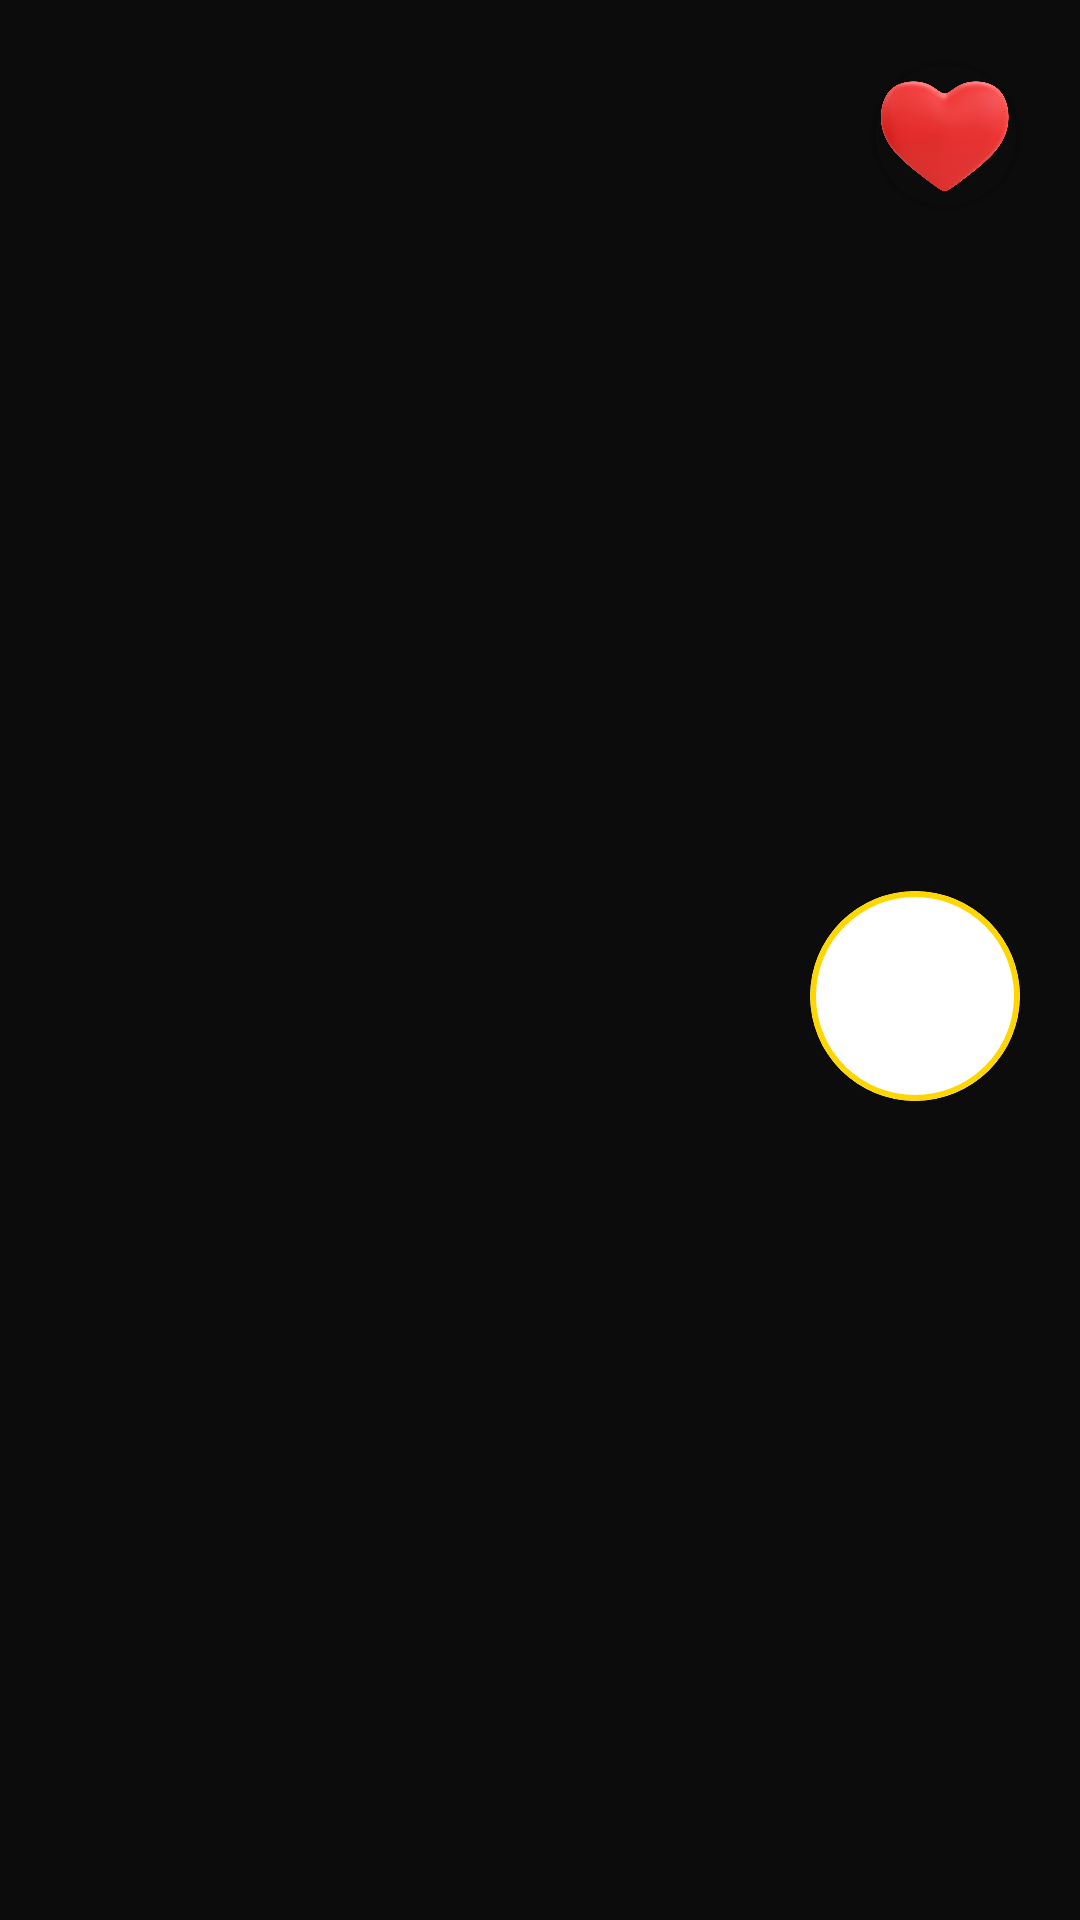

Named icons in this screenshot (1080 x 1920) and their bounding boxes, {"left": x1, "top": y1, "right": x2, "bottom": y2}:
heart: {"left": 881, "top": 81, "right": 1009, "bottom": 191}
